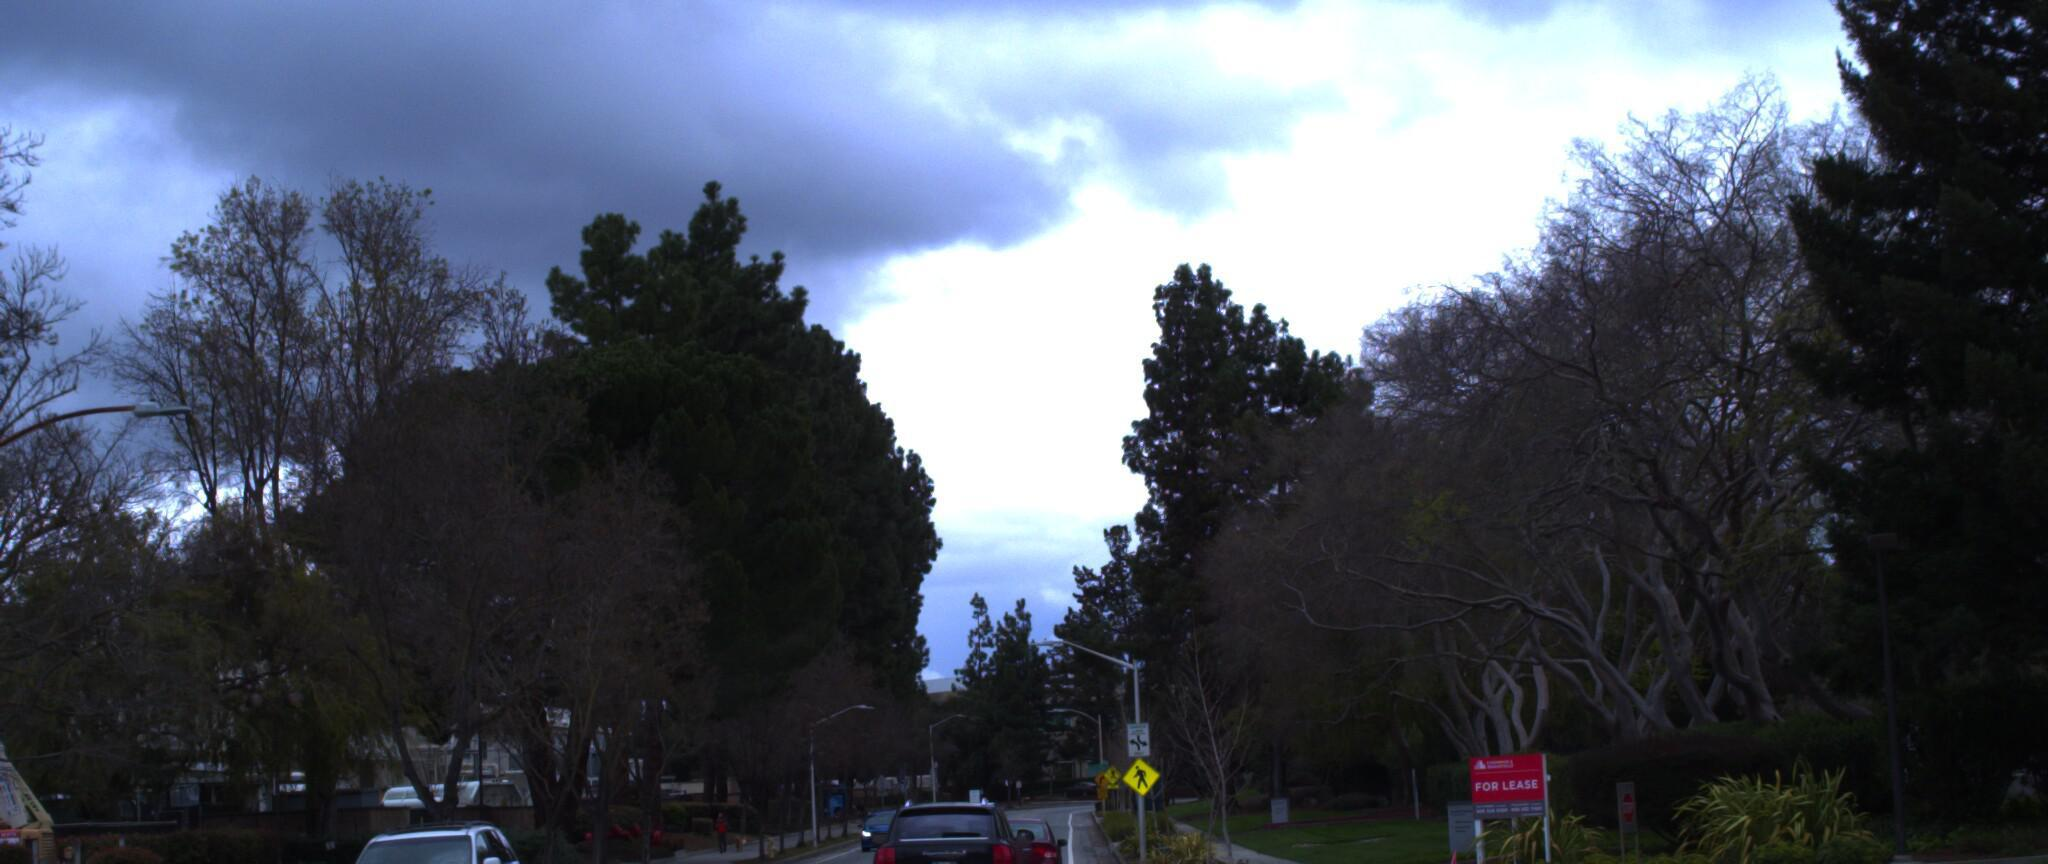car: (856, 777, 1021, 864), (312, 814, 533, 864), (981, 807, 1084, 864)
